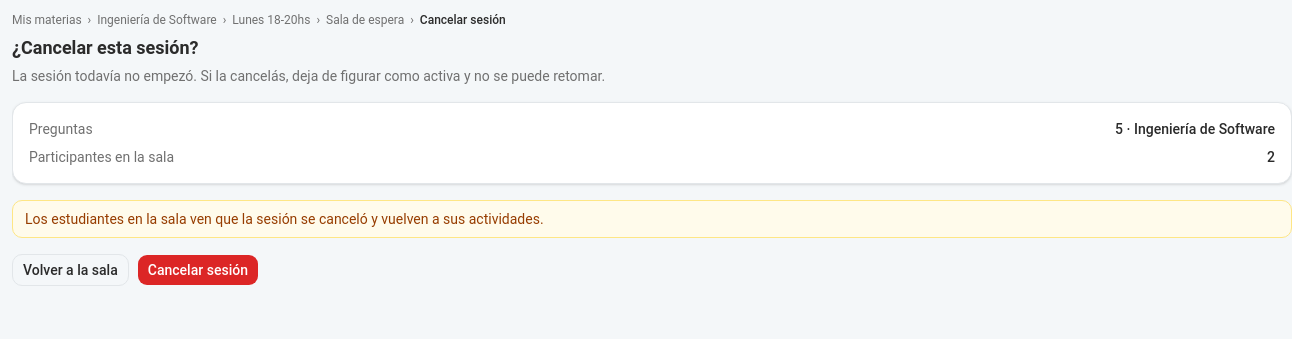
CancelarSesionEnVivo (US-ADJ-58) › 422 (ya iniciada o ya cancelada) muestra el error sin navegar
Click the button "Cancelar sesión" at (198, 270), box [137,254,259,286]
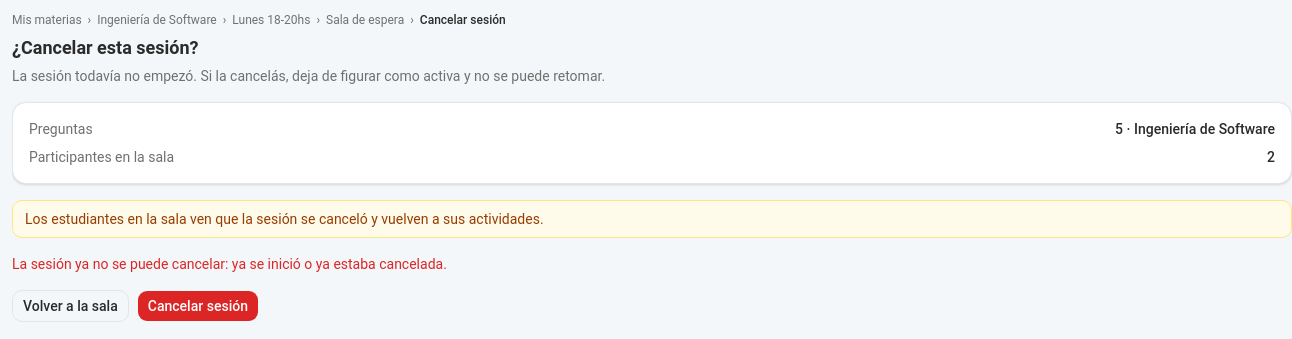
Expected: the button "Cancelar sesión" is enabled, [137,290,259,322]
Now the message shows "ya no se puede cancelar", box [12,256,447,272]
